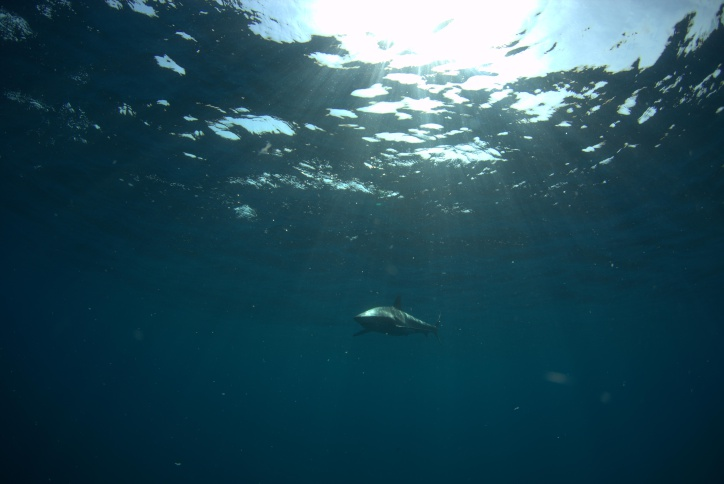Sedoso: (325, 293, 448, 344)
